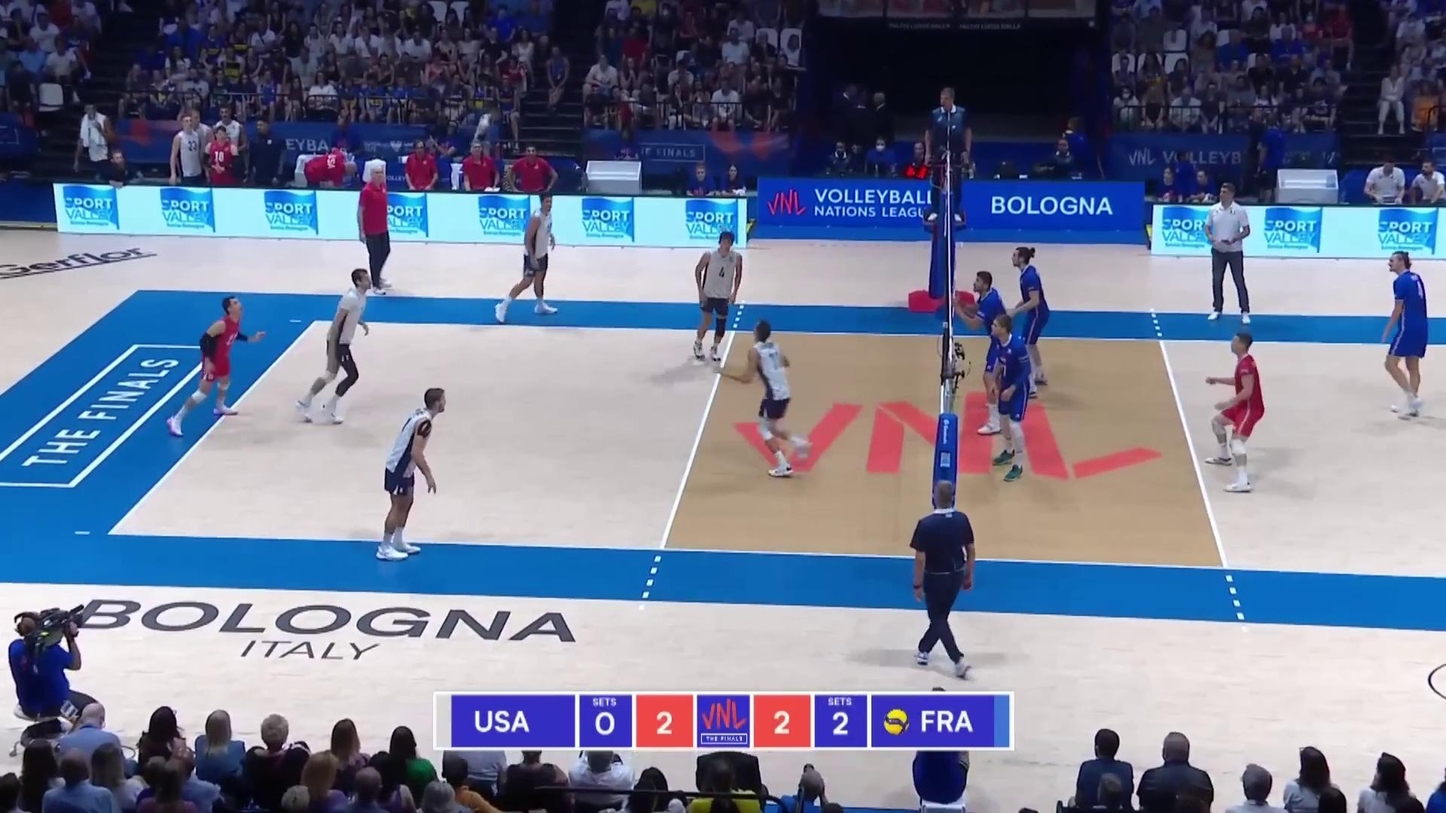player: (294, 270, 372, 422), (167, 297, 252, 435), (378, 389, 446, 560), (741, 319, 813, 479), (1204, 332, 1266, 493), (960, 269, 1013, 436), (1379, 250, 1431, 420), (494, 193, 559, 322), (983, 316, 1032, 485), (691, 232, 742, 364), (1005, 247, 1050, 394)
refree: (910, 481, 978, 674), (924, 87, 973, 227)
